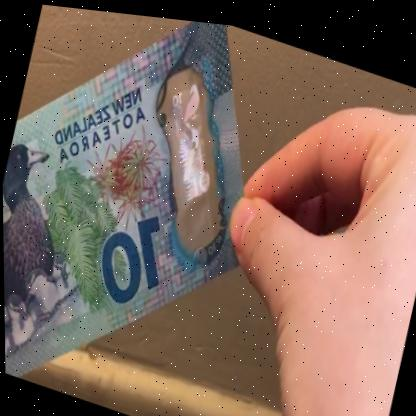10F: (148, 62, 236, 204)
